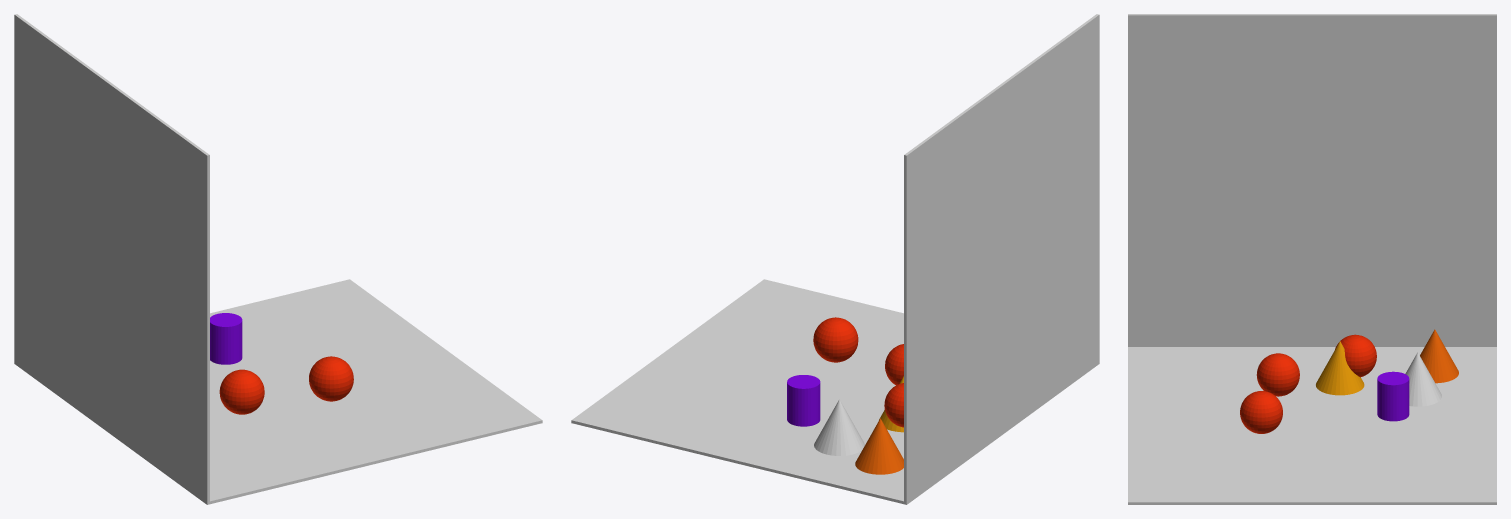
Rendered from UseCase_02-variant3-geometry.gltf.
3 renders of one model, left to right at view 1: azimuth 30°, elevation 25°; view 2: azimuth 150°, elevation 25°; view 3: azimuth 270°, elevation 25°, orthographic. The views are drawn at different scales.
Visible parts, largest first — view 1: Cube.001, Cube, Sphere.001, Cylinder, Sphere.002; view 2: Cube.001, Cube, Cone.002, Cylinder, Cone.001, Sphere.002, Sphere, Sphere.001; view 3: Cube.001, Cube, Cylinder, Sphere.002, Sphere.001, Cone, Cone.002, Cone.001, Sphere.
Boxes of the visible parts, bbox=[...] form: Cube.001: bbox=[14, 14, 209, 504]; Cube: bbox=[208, 279, 542, 504]; Sphere.001: bbox=[219, 369, 264, 414]; Cylinder: bbox=[210, 313, 242, 364]; Sphere.002: bbox=[309, 356, 353, 401]; Cube.001: bbox=[904, 14, 1099, 504]; Cube: bbox=[571, 279, 905, 504]; Cone.002: bbox=[814, 399, 864, 455]; Cylinder: bbox=[787, 375, 820, 426]; Cone.001: bbox=[855, 418, 903, 474]; Sphere.002: bbox=[813, 317, 858, 362]; Sphere: bbox=[884, 383, 903, 427]; Sphere.001: bbox=[885, 344, 903, 385]; Cube.001: bbox=[1128, 14, 1496, 346]; Cube: bbox=[1128, 347, 1496, 504]; Cylinder: bbox=[1377, 371, 1409, 421]; Sphere.002: bbox=[1240, 391, 1282, 433]; Sphere.001: bbox=[1256, 353, 1299, 396]; Cone: bbox=[1316, 341, 1364, 395]; Cone.002: bbox=[1405, 352, 1441, 406]; Cone.001: bbox=[1420, 329, 1458, 383]; Sphere: bbox=[1335, 334, 1376, 377].
Size of the model in its own units: 6.98 by 6.95 by 6.95.
